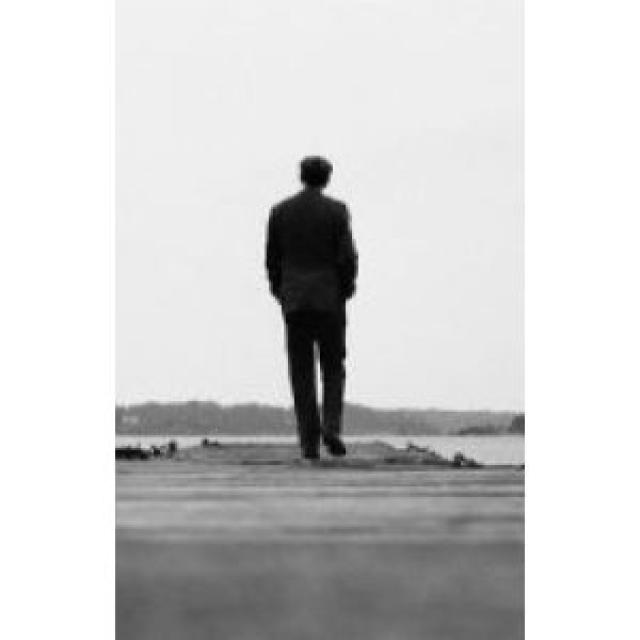nonfall: (263, 162, 397, 464)
